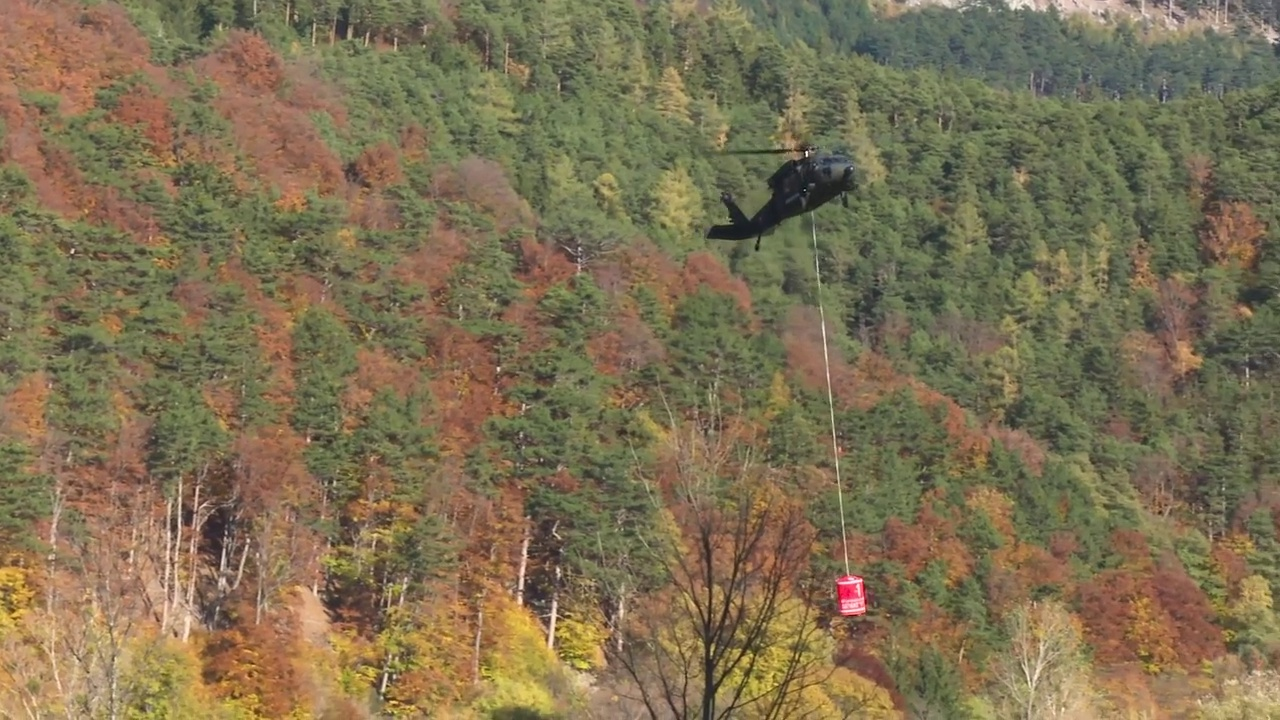heli: (705, 145, 861, 253)
